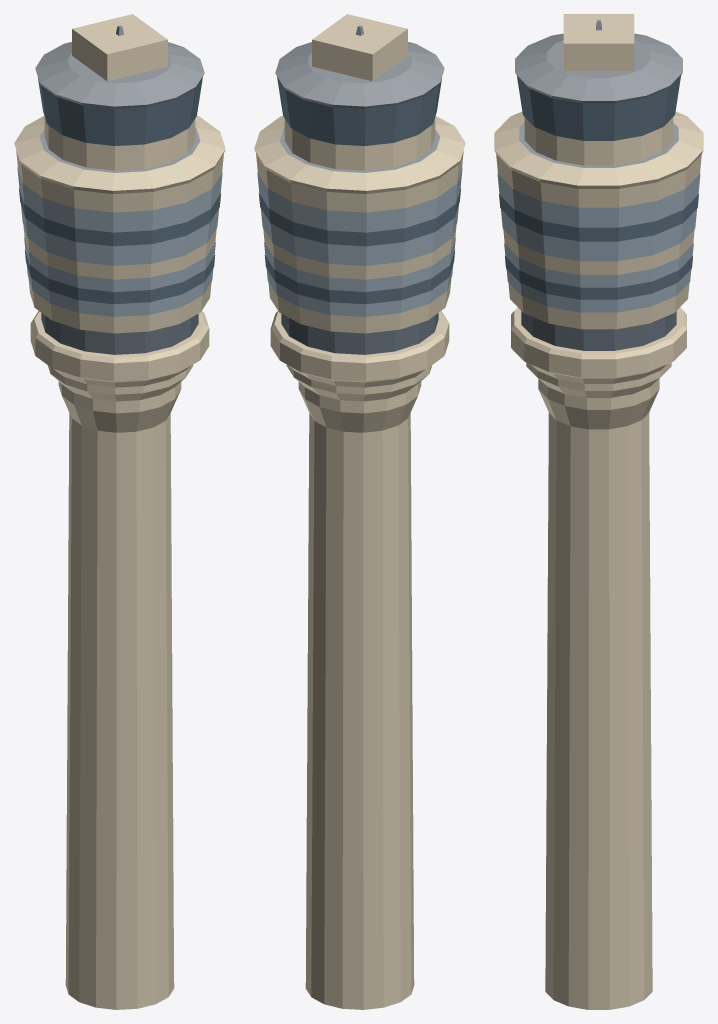
Rendered from atl-hartsfield-jackson-control-tower.glb.
The picture shows the model from 3 angles, left to right: view 1: azimuth 30°, elevation 25°; view 2: azimuth 150°, elevation 25°; view 3: azimuth 270°, elevation 25°; orthographic projection.
Visible parts, largest first — view 1: Hartsfield-Jackson Control Tower; view 2: Hartsfield-Jackson Control Tower; view 3: Hartsfield-Jackson Control Tower.
Boxes of the visible parts, <box> form: Hartsfield-Jackson Control Tower: <box>14,14,225,1009</box>; Hartsfield-Jackson Control Tower: <box>254,14,465,1009</box>; Hartsfield-Jackson Control Tower: <box>494,14,703,1009</box>.
Size of the model in its own units: 23.74 by 121 by 23.74.
